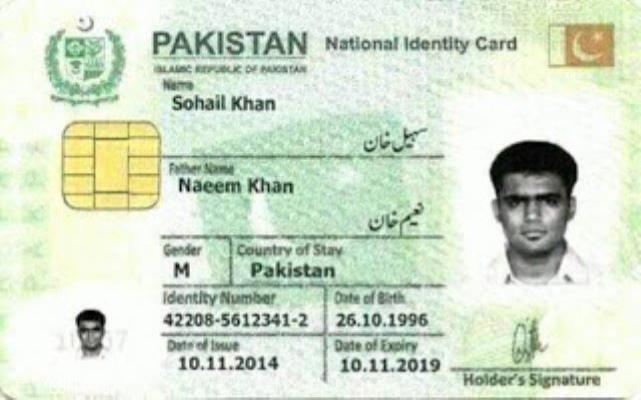fname: (175, 174, 297, 196)
name: (166, 89, 282, 116)
number: (158, 308, 311, 330)
